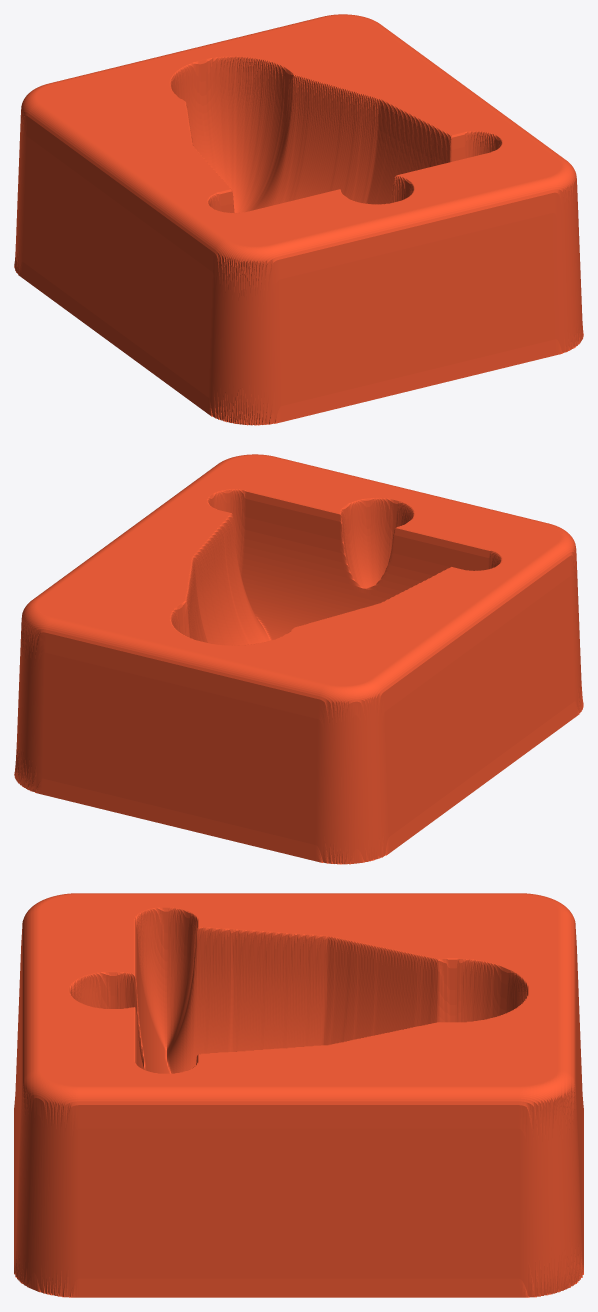
The model's file is mold.glb.
3 renders of one model, top to bottom at view 1: azimuth 30°, elevation 25°; view 2: azimuth 150°, elevation 25°; view 3: azimuth 270°, elevation 25°, orthographic. The views are drawn at different scales.
Parts seen in each view (by area): view 1: geometry_0; view 2: geometry_0; view 3: geometry_0.
Part boxes in pixels (bbox=[...]): geometry_0: bbox=[14, 14, 583, 425]; geometry_0: bbox=[14, 454, 583, 864]; geometry_0: bbox=[14, 893, 583, 1297].
Bounding box in the file's own units: 0.0706 × 0.031 × 0.0798.
